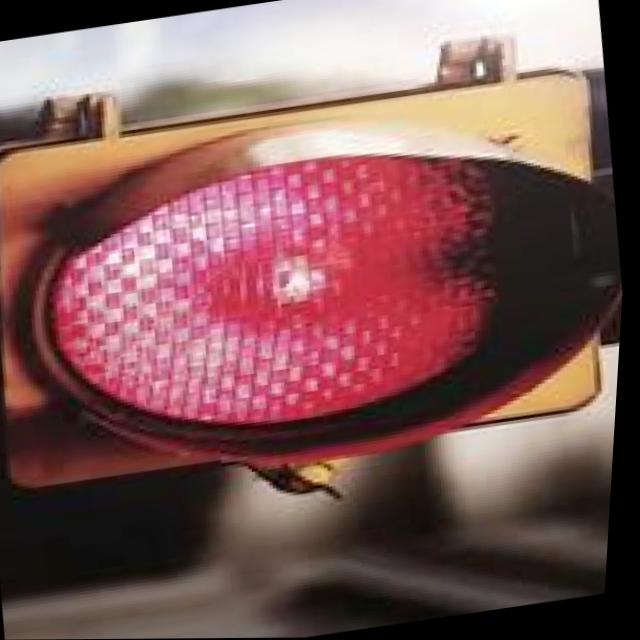red_light: (0, 0, 575, 566)
